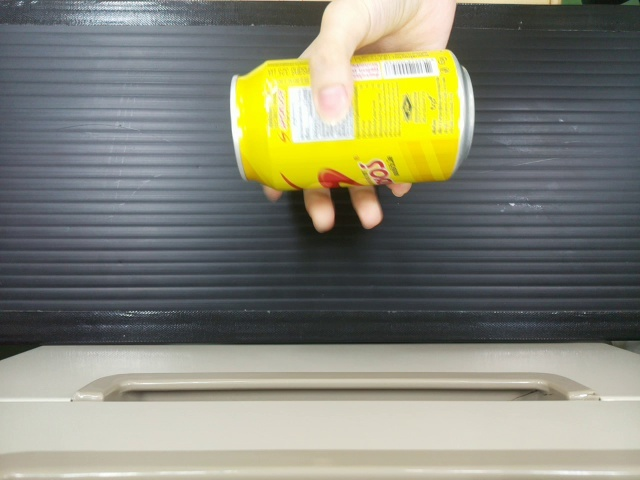can: (227, 48, 472, 181)
